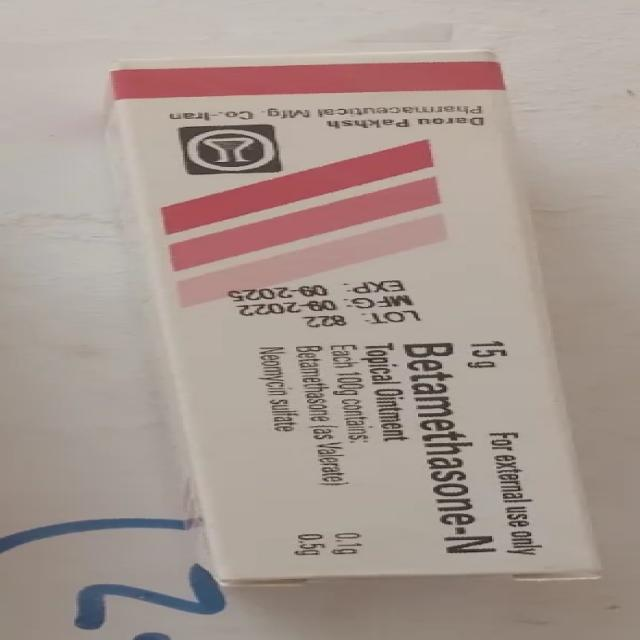drug-name: (387, 335, 522, 559)
